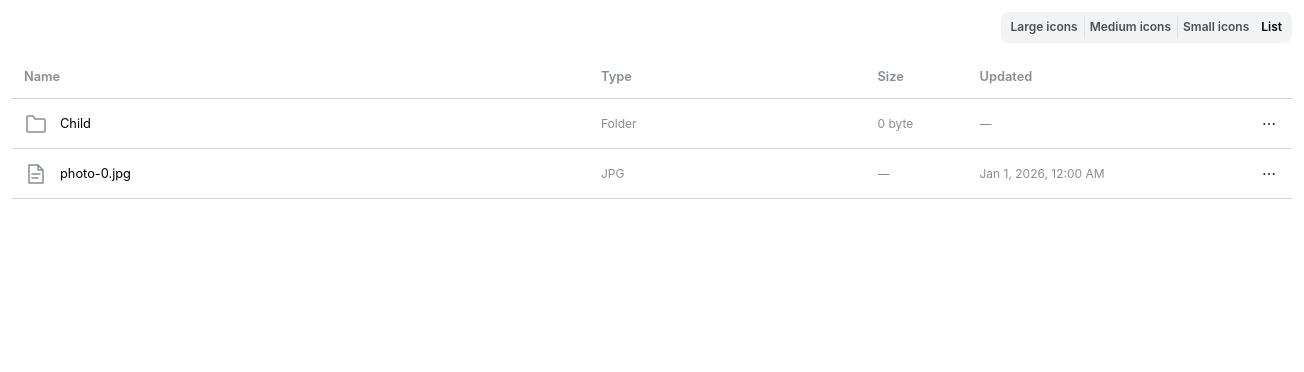
renames files and folders inline in list view
Right-click the button "photo-0.jpg JPG — Jan 1, 2026, 12:00 AM" at (95, 174), box 12,149 -> 1292,199
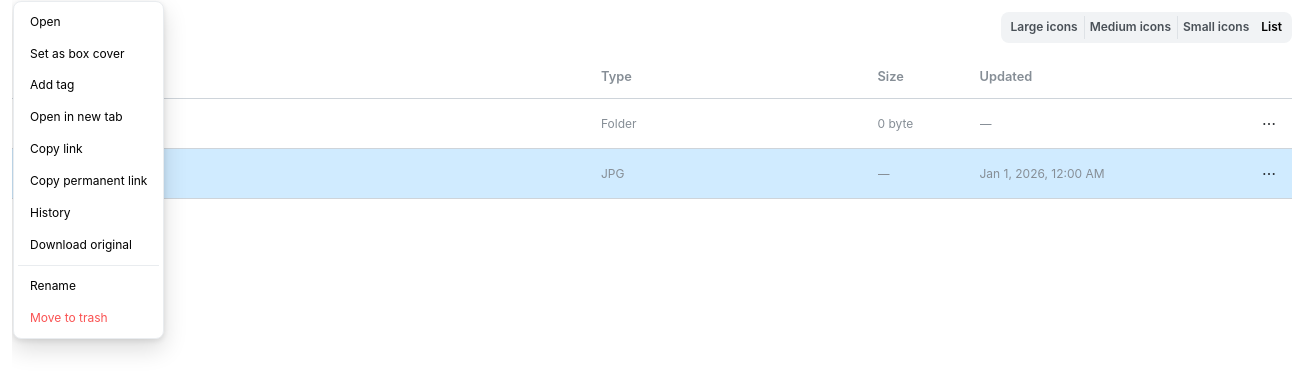
Click the menu item "Rename" at (89, 286), box 18,270 -> 160,302
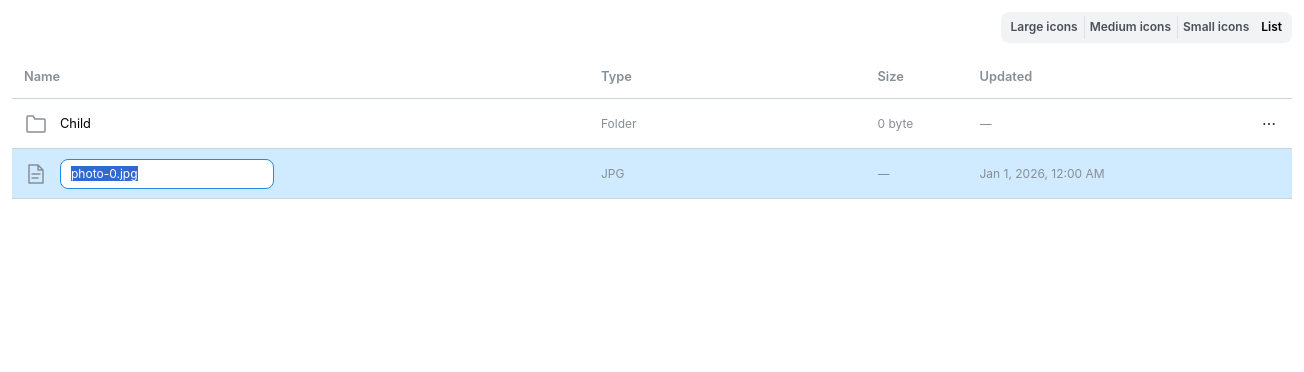
Now the menu item "Rename" is gone
Replace the text in the field named "Rename" with "changed.jpg" at (167, 174), box 60,159 -> 274,189
Press Escape
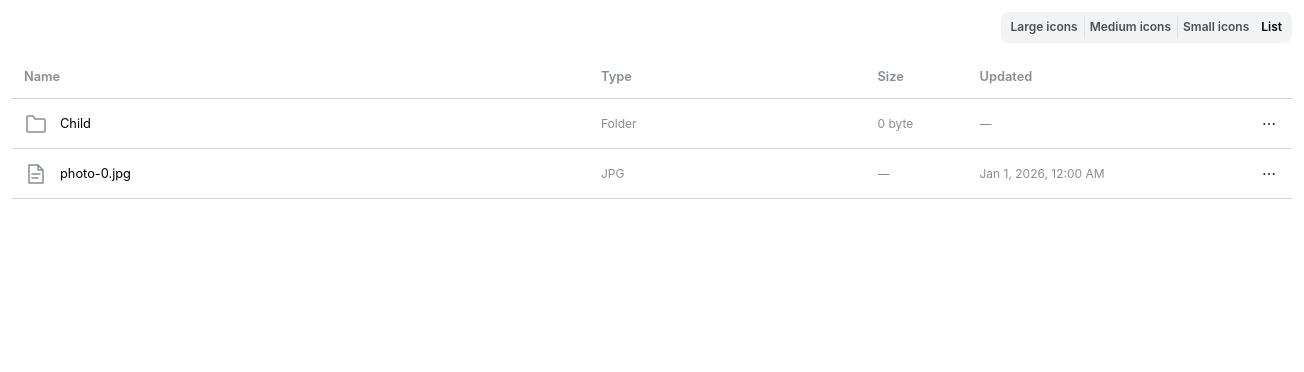
Now the field labelled "Rename" is gone
Right-click the button "Child Folder 0 byte —" at (75, 124), box 12,99 -> 1292,149
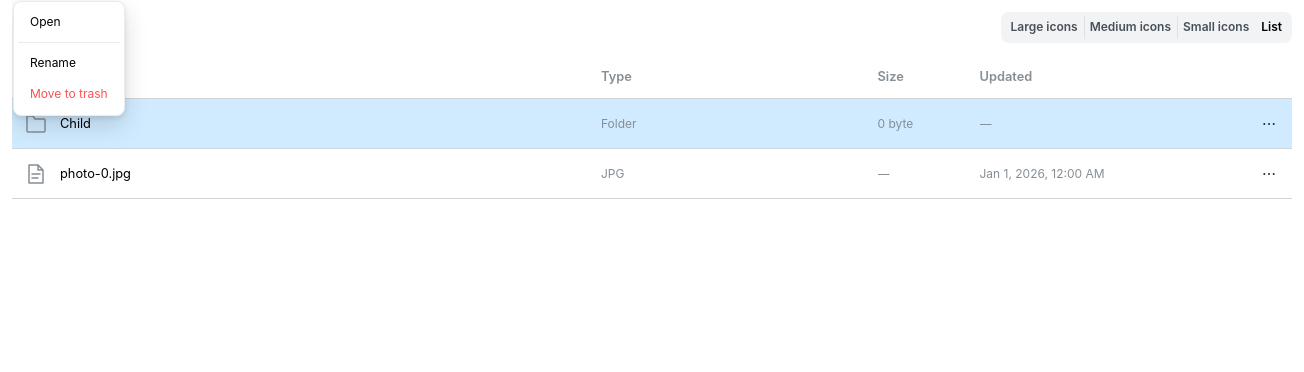
Click the menu item "Rename" at (69, 63), box 18,47 -> 120,79
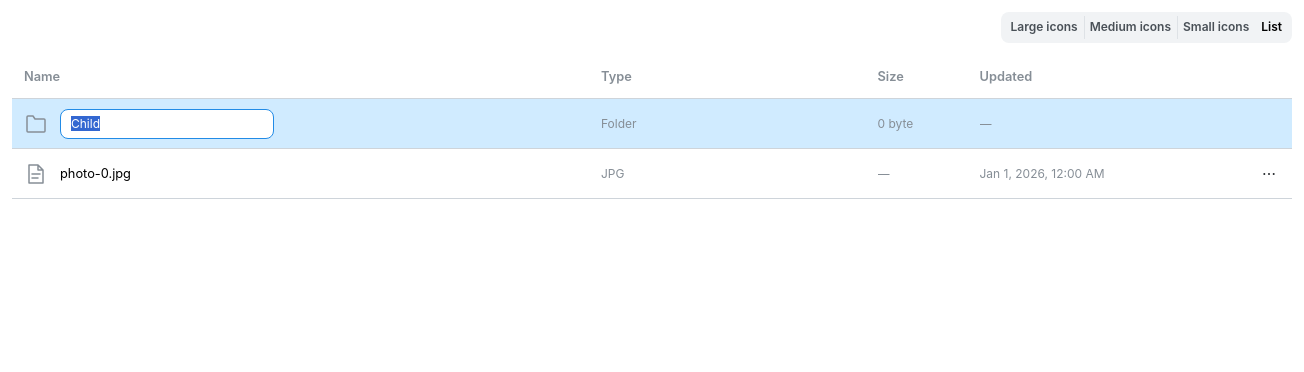
Replace the text in the field named "Rename" with "New folder" at (167, 124), box 60,109 -> 274,139
Press Tab
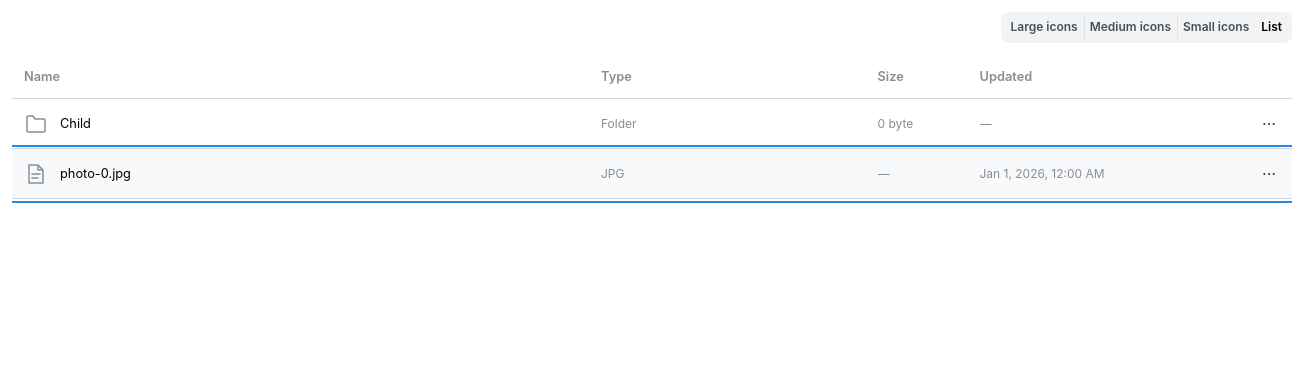
Now the field labelled "Rename" is gone
